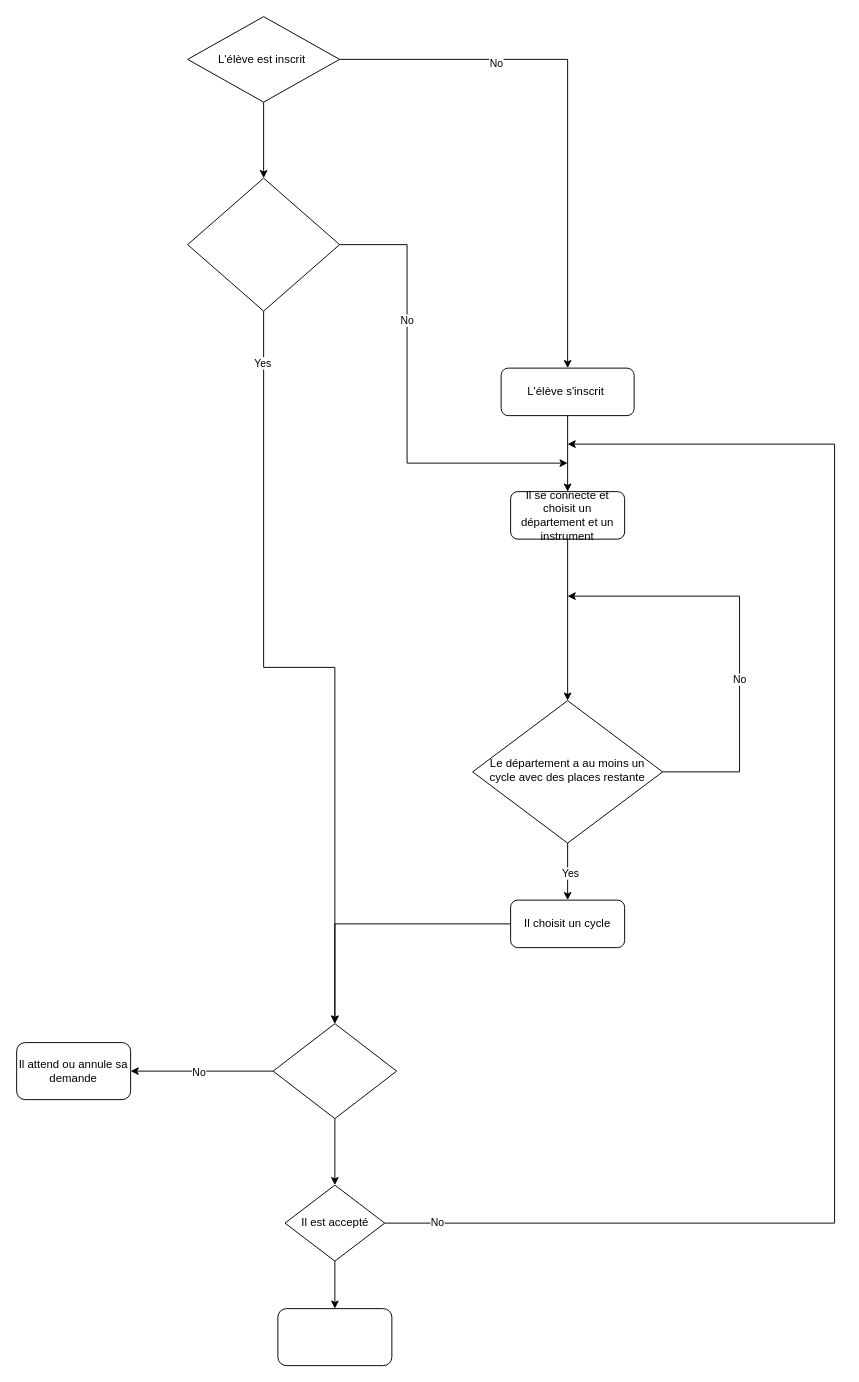
Image size: 859x1382. Some labels were removed from this diagram. The centre of each missing label's shape, as x and y in pixels:
"Accès au choix des créneaux de cours" goes at (334,1337).
"Il a déjà une demande en cours" goes at (263,244).
"Sa demande a été traitée" goes at (334,1071).
